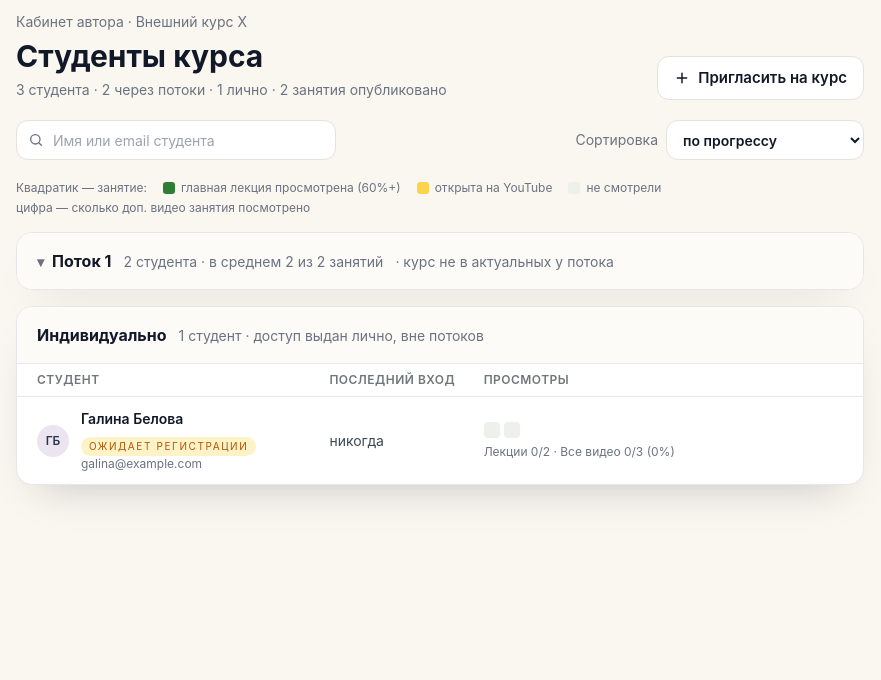
it: CourseStudents › поток, у которого курс не в актуальных, свёрнут до клика
This screenshot has width=881, height=680.
Check: the text "· курс не в актуальных у потока" is shown, box 395,252 -> 614,272
Check: the text "Мария Кузнецова" is not shown
Click the button "▾ Поток 1" at (74, 261), box 37,249 -> 111,273
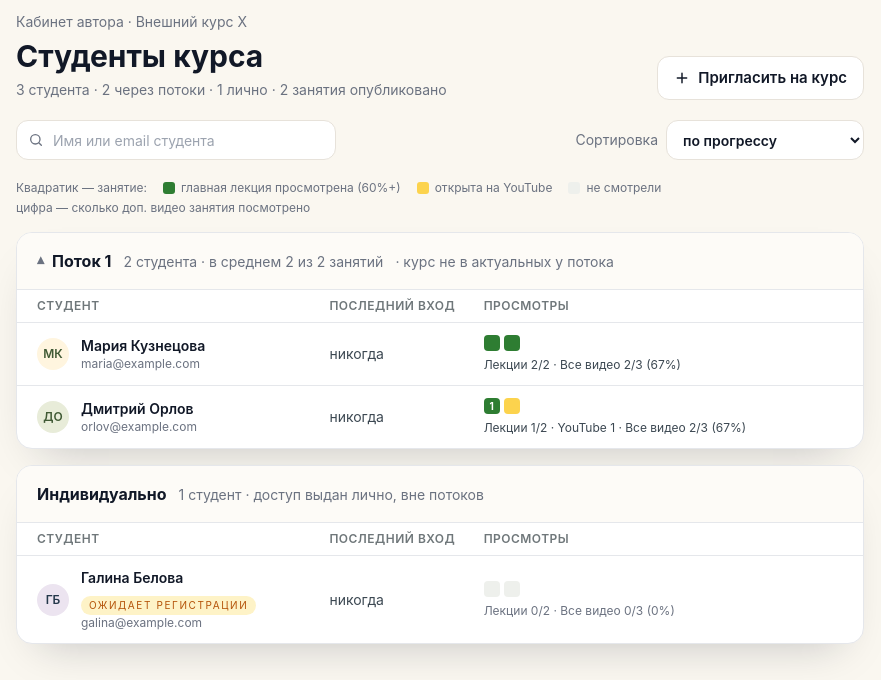
Check: the text "Мария Кузнецова" is shown, box 81,336 -> 205,356
